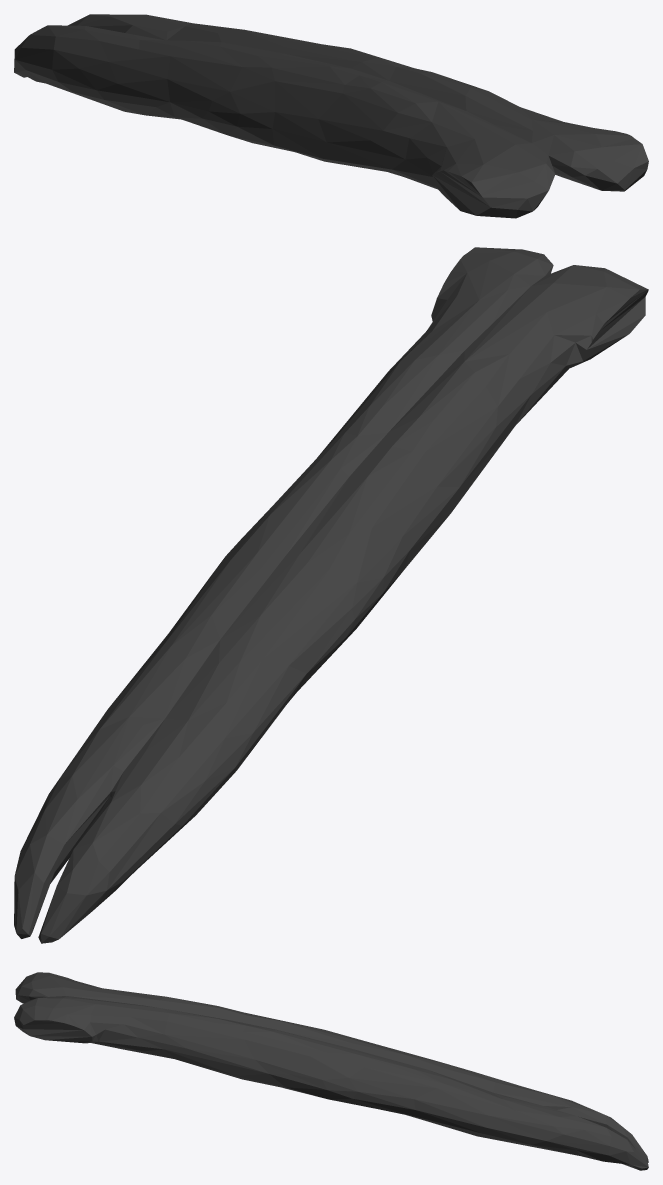
Rendered from lig_sacroiliac_short.glb.
The picture shows the model from 3 angles, top to bottom: view 1: azimuth 30°, elevation 25°; view 2: azimuth 150°, elevation 25°; view 3: azimuth 270°, elevation 25°; orthographic projection. The views are drawn at different scales.
Visible parts, largest first — view 1: lig_sacroiliac_short; view 2: lig_sacroiliac_short; view 3: lig_sacroiliac_short.
Part boxes in pixels (box(x1,y1,x2,y2)): lig_sacroiliac_short: box(14, 14, 648, 218); lig_sacroiliac_short: box(14, 247, 648, 943); lig_sacroiliac_short: box(14, 972, 648, 1170).
Size of the model in its own units: 0.000598 by 0.00101 by 0.00334.
Materials: 1 (1 with a texture image).
